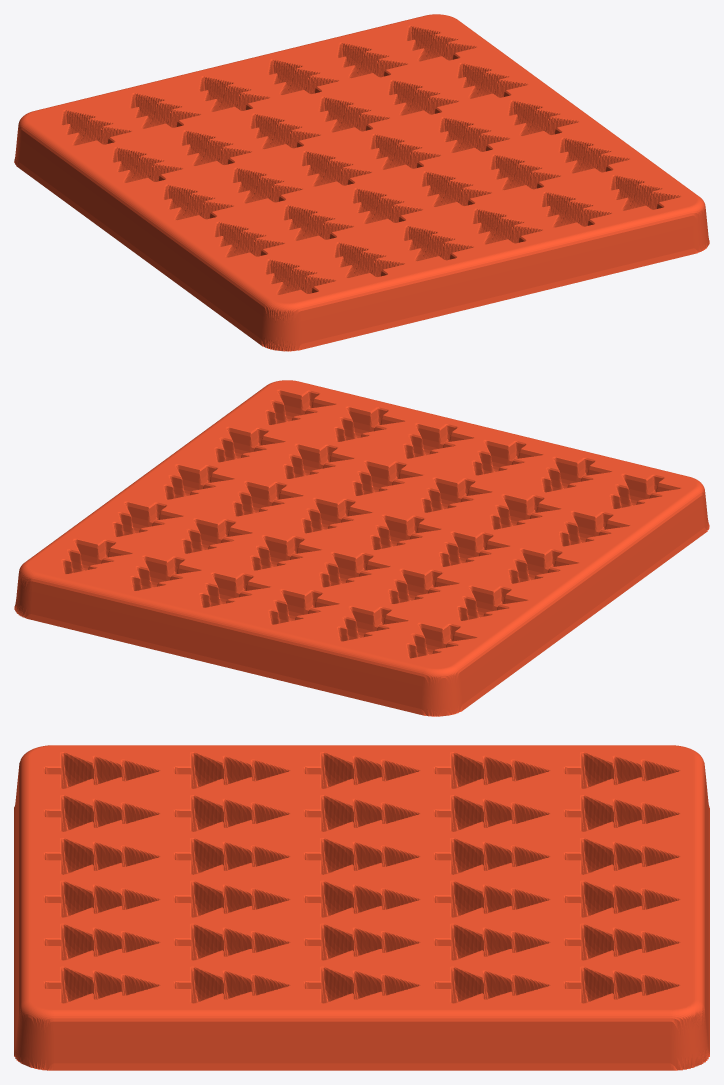
The model's file is mold.glb.
3 renders of one model, top to bottom at view 1: azimuth 30°, elevation 25°; view 2: azimuth 150°, elevation 25°; view 3: azimuth 270°, elevation 25°, orthographic. The views are drawn at different scales.
Visible parts, largest first — view 1: geometry_0; view 2: geometry_0; view 3: geometry_0.
Boxes of the visible parts, <box> form: geometry_0: <box>14,14,709,351</box>; geometry_0: <box>14,380,709,716</box>; geometry_0: <box>14,745,709,1070</box>.
Size of the model in its own units: 0.1489 by 0.0136 by 0.1581.
